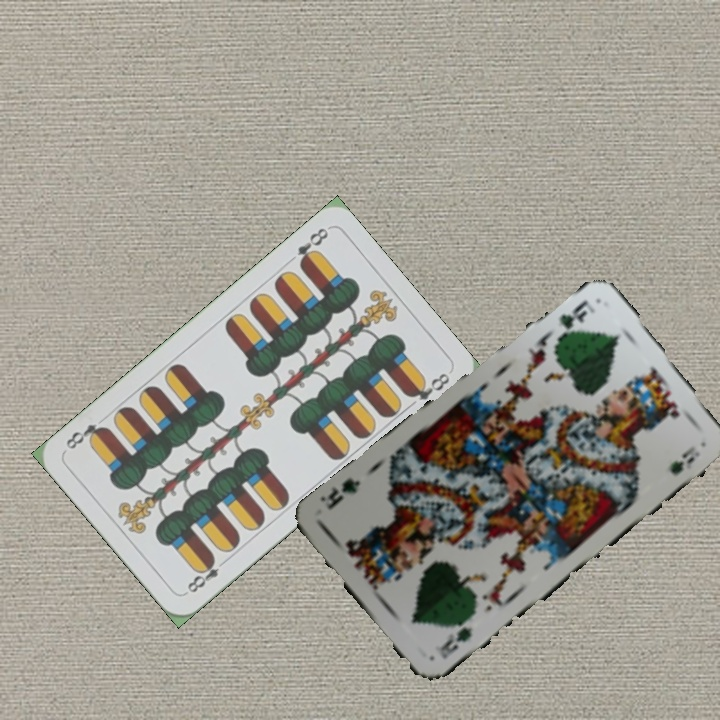E8: (181, 553, 231, 597), (292, 223, 331, 271)
GK: (435, 613, 476, 662), (552, 295, 591, 342)
